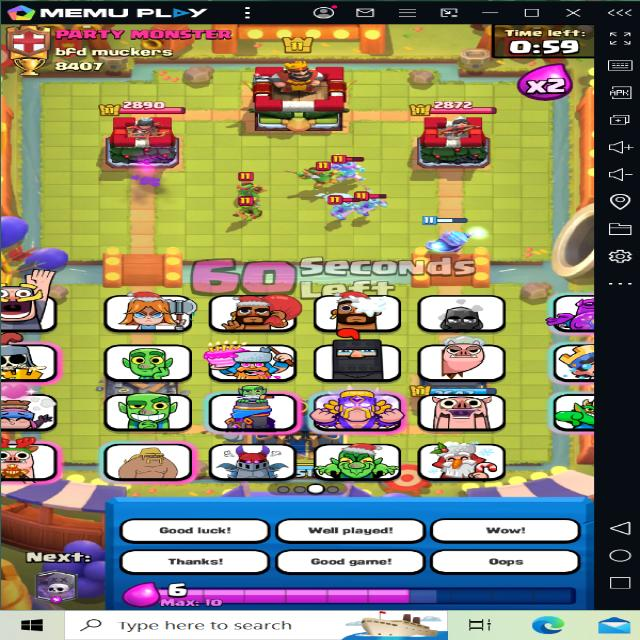goblin: (350, 188, 400, 221), (230, 197, 272, 223), (314, 193, 353, 220)
spear-goblin: (229, 168, 265, 200), (301, 162, 336, 192), (334, 154, 369, 182)
